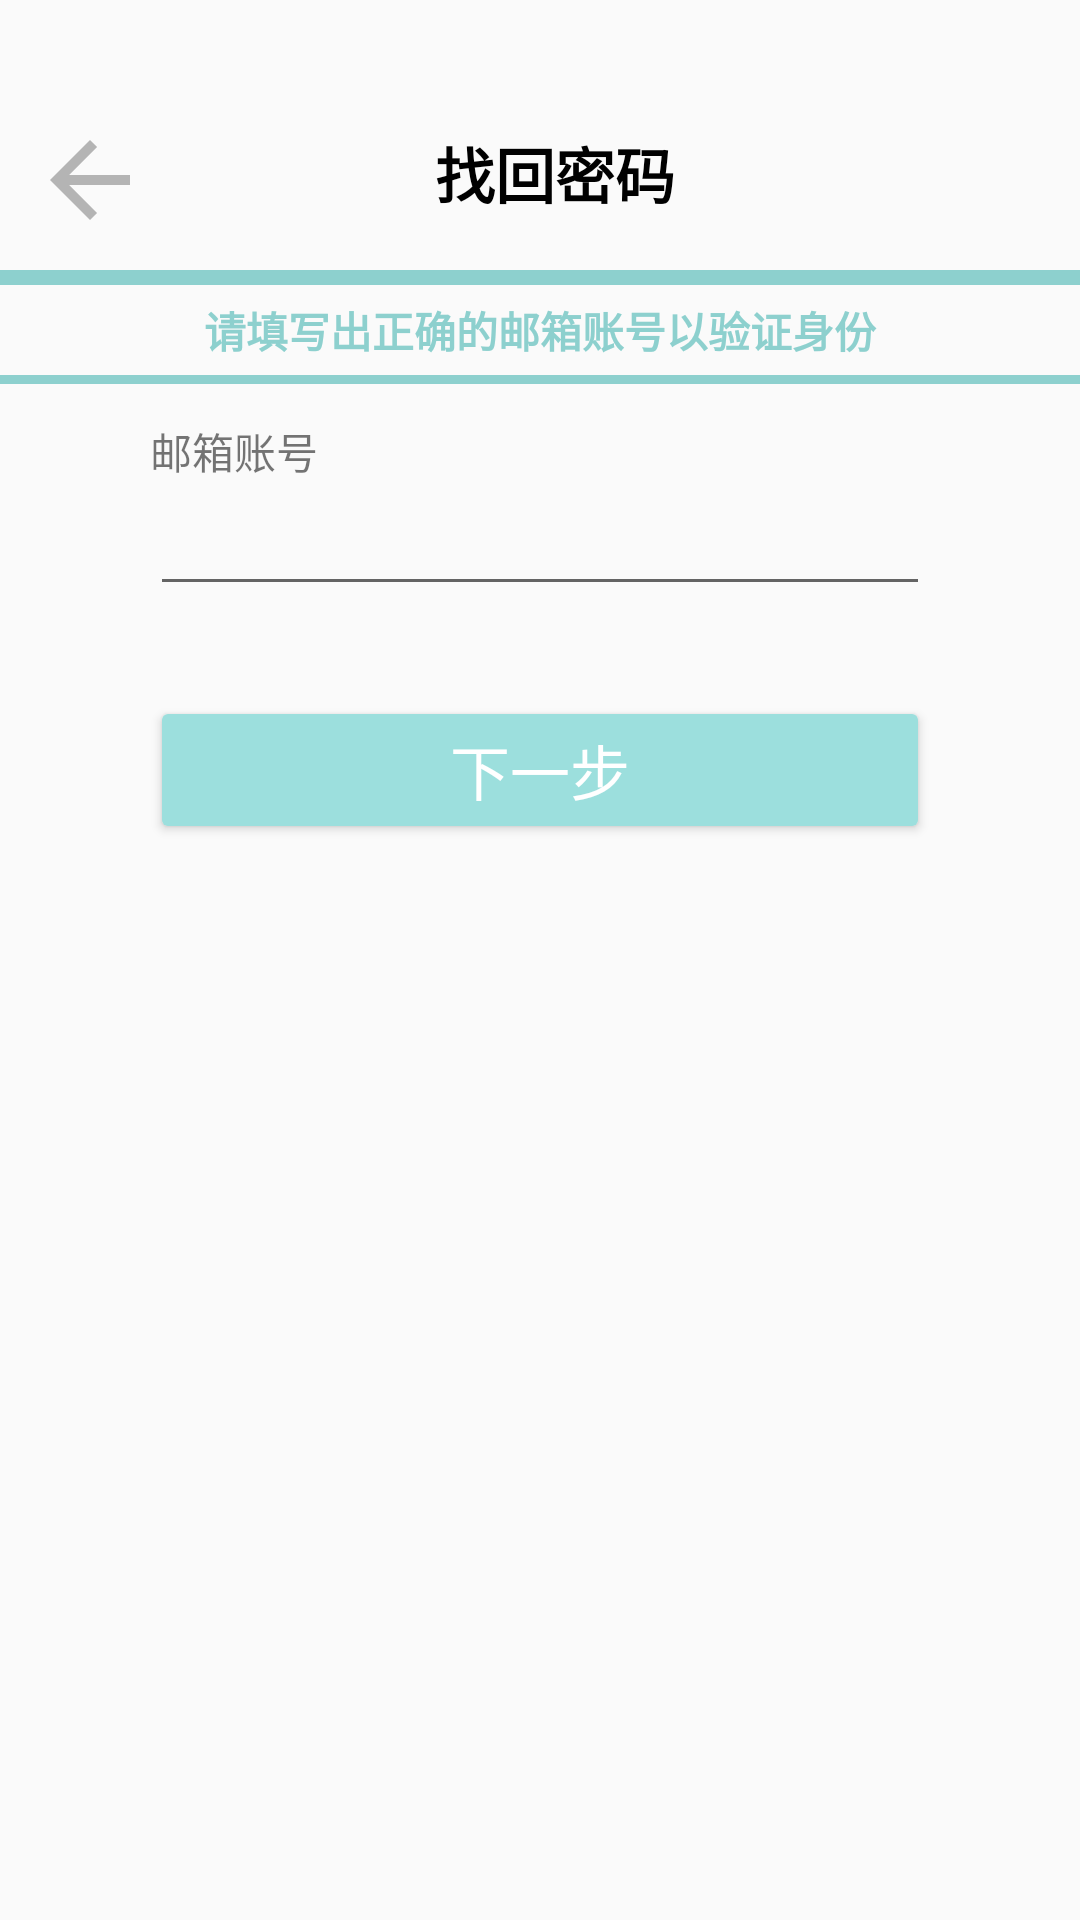

Named icons in this screenshot (1080 × 1920) and their bounding boxes, (x1=x1, y1=y1, x2=x2, y2=y2):
arrow back: (x1=50, y1=140, x2=130, y2=220)
